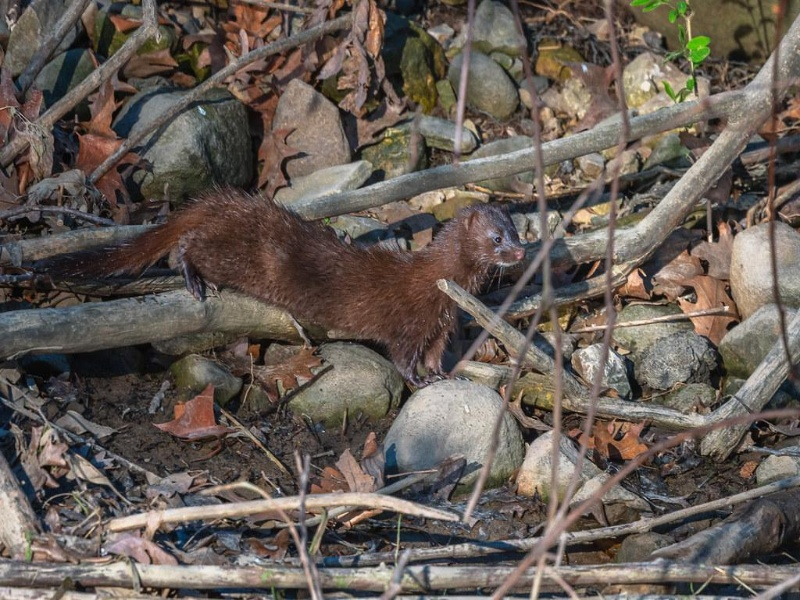minkish: (43, 182, 528, 389)
